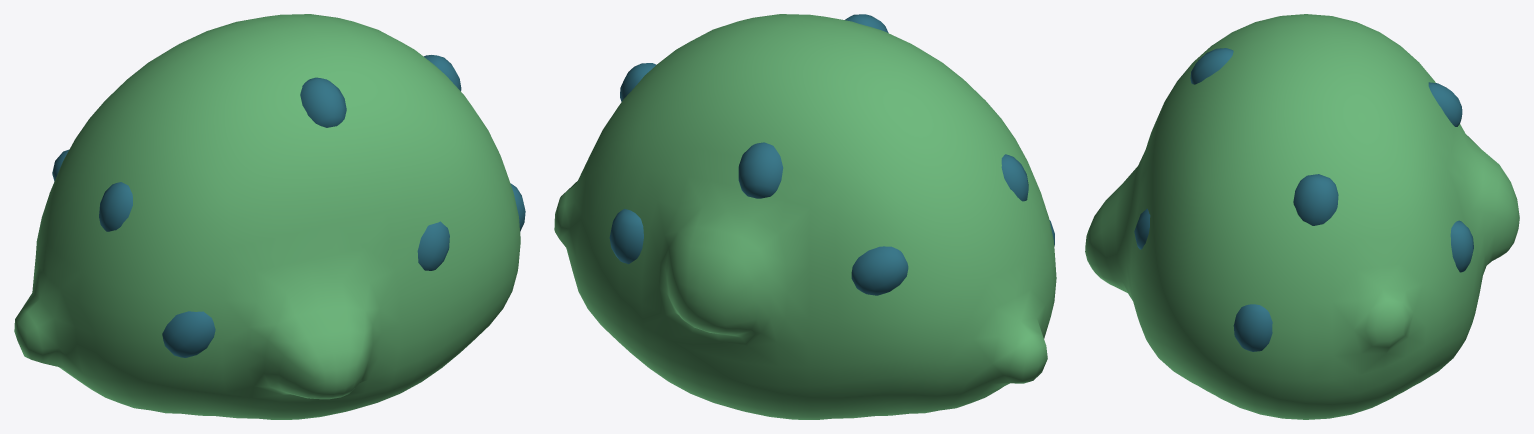
File: Bush_Berry_03.dae
3 views of the same model, side by side, from view 1: azimuth 30°, elevation 25°; view 2: azimuth 150°, elevation 25°; view 3: azimuth 270°, elevation 25° (orthographic). The views are drawn at different scales.
Visible parts, largest first — view 1: Bush_Berry_03_LOD0; view 2: Bush_Berry_03_LOD0; view 3: Bush_Berry_03_LOD0.
Boxes of the visible parts, bbox=[...] form: Bush_Berry_03_LOD0: bbox=[14, 14, 525, 419]; Bush_Berry_03_LOD0: bbox=[554, 14, 1056, 419]; Bush_Berry_03_LOD0: bbox=[1085, 14, 1519, 419].
Size of what is drawn, in the model's own units: 6.62 by 5.71 by 4.57.
